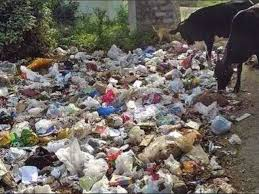garbage: (1, 63, 209, 194), (75, 50, 204, 194)
